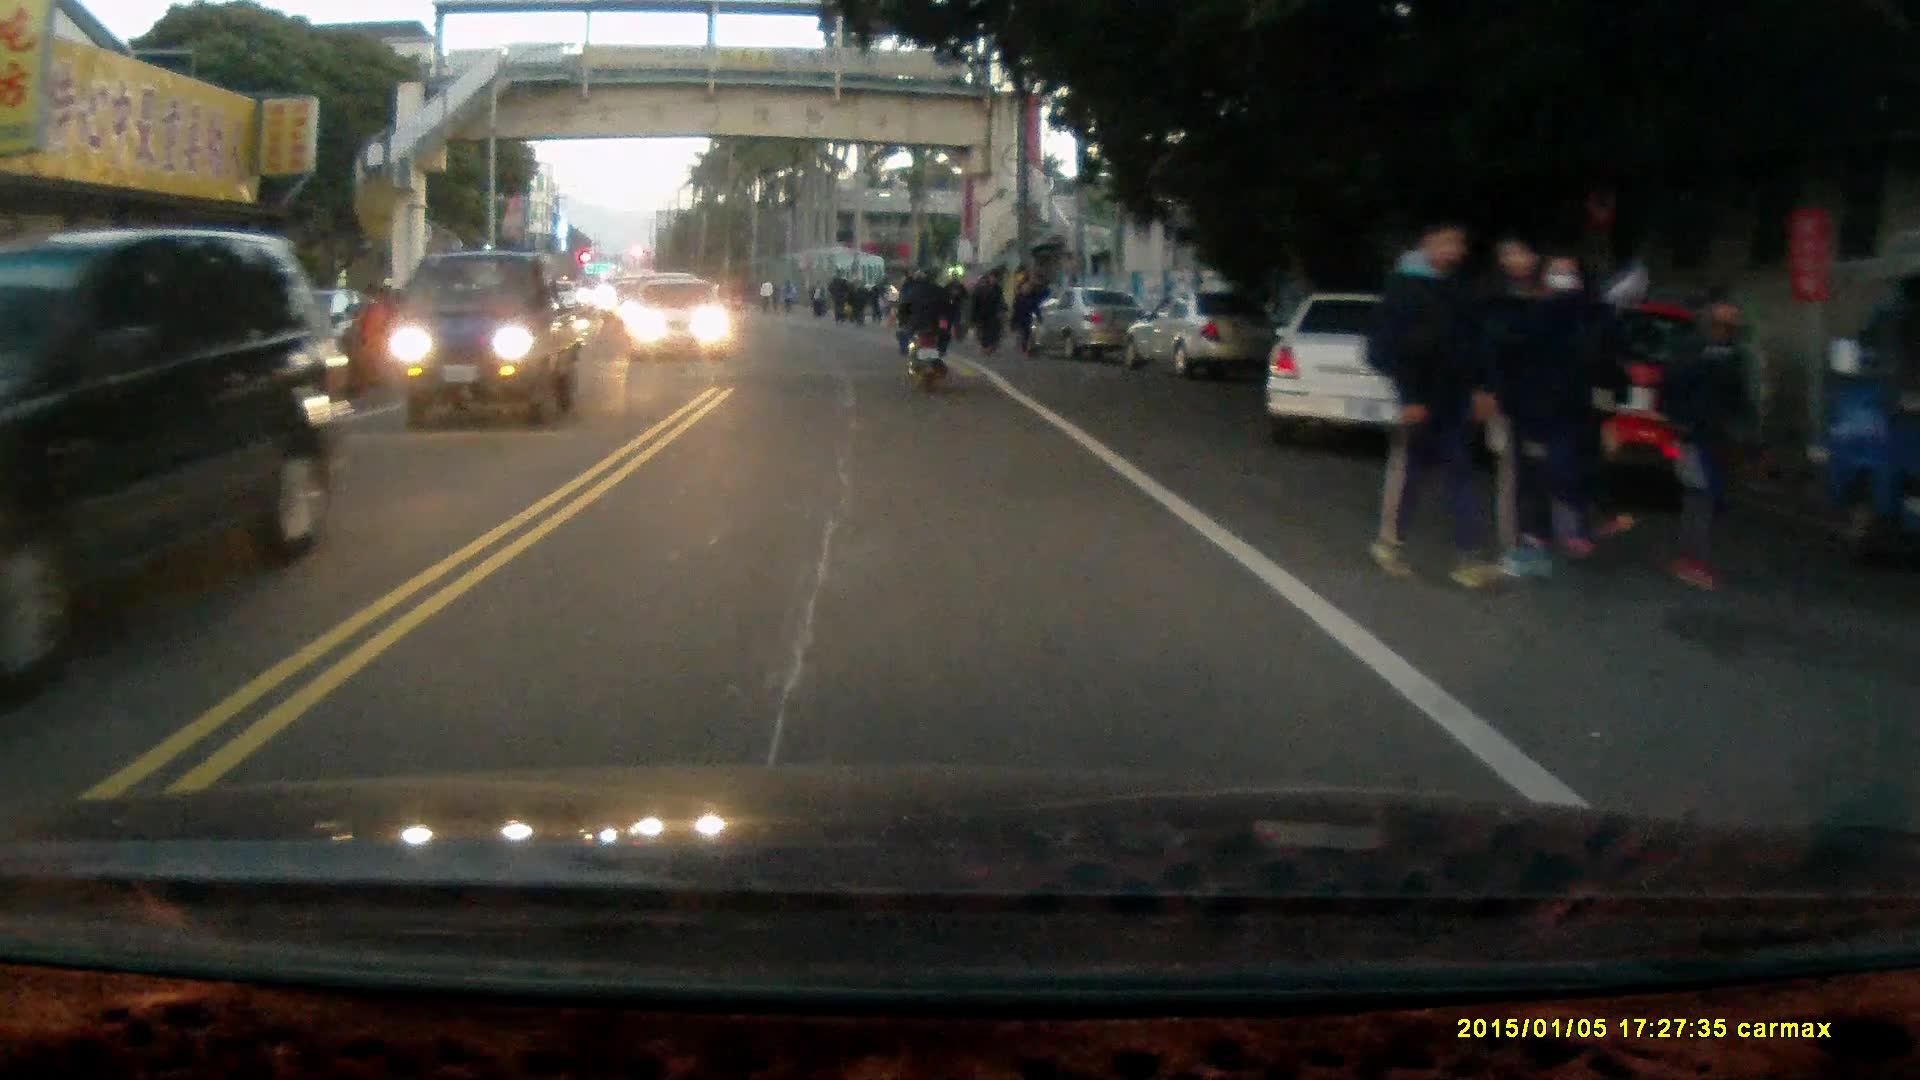pedestrian: (1362, 205, 1503, 595), (1486, 229, 1638, 591), (1655, 282, 1755, 591), (978, 262, 1007, 351), (970, 275, 997, 359), (1009, 280, 1037, 354)
rider: (886, 263, 952, 392)
vehicle: (1, 226, 364, 626), (390, 253, 591, 432), (1265, 288, 1483, 448), (1130, 288, 1271, 384), (1027, 289, 1153, 364), (629, 280, 730, 363)
